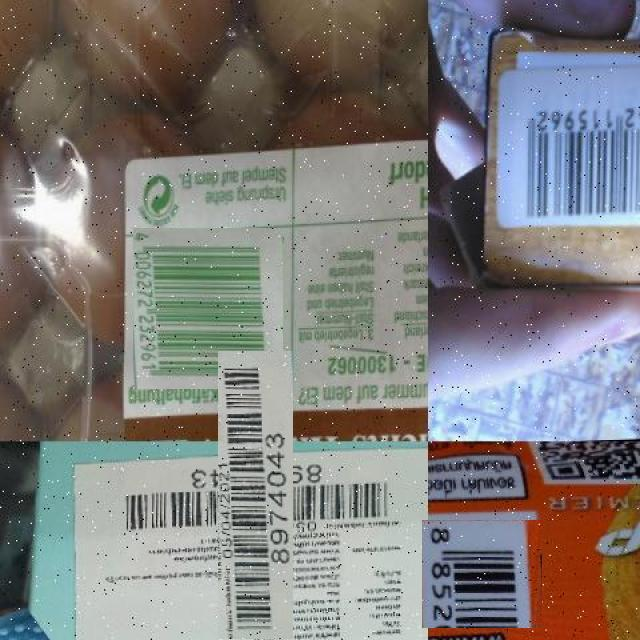Barcode: (163, 406, 348, 590), (130, 230, 286, 386), (510, 72, 640, 228), (425, 516, 540, 631)
